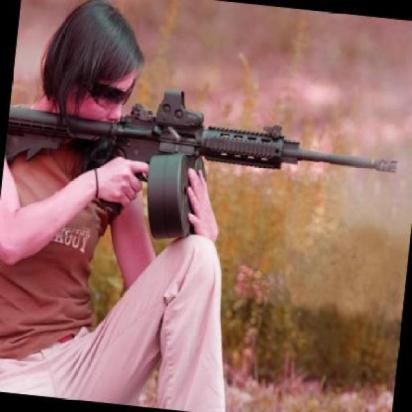Gun: (0, 65, 406, 251)
